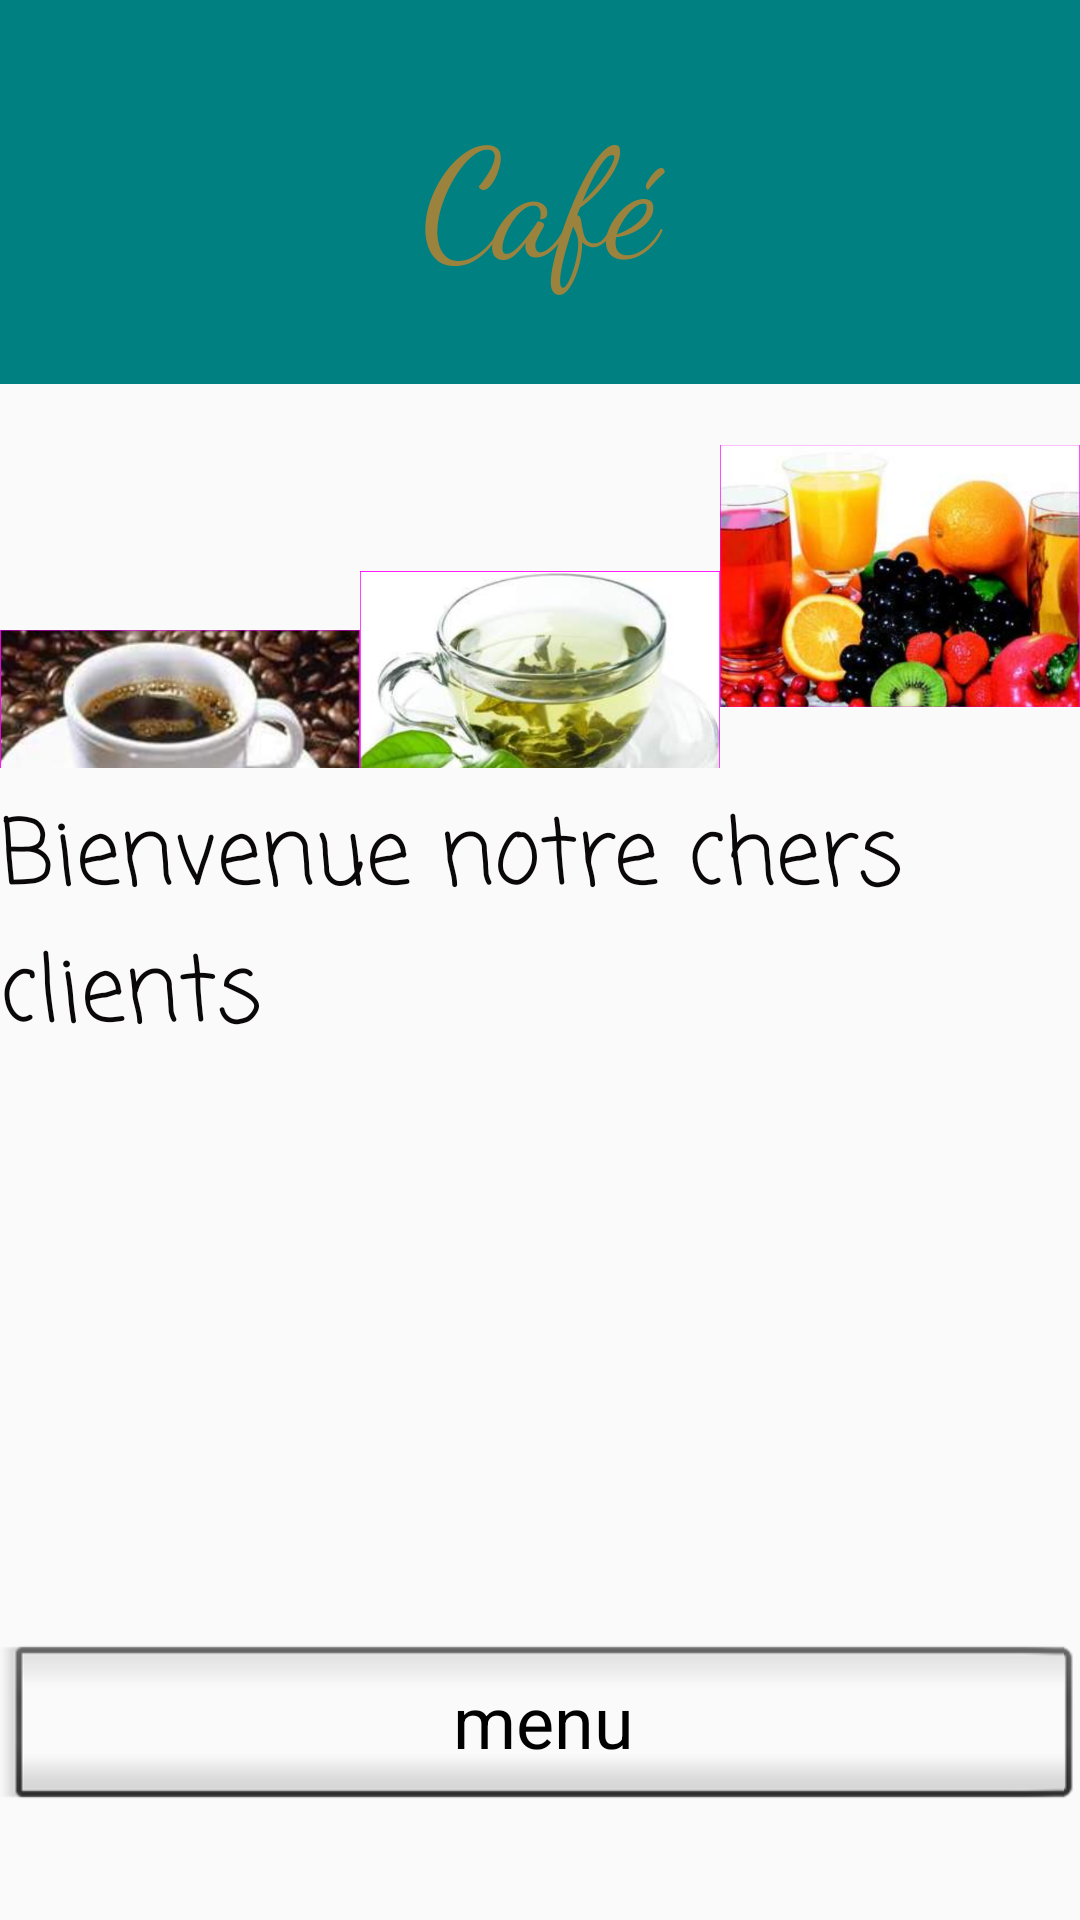

Icons on this 1080×1920 Android screen, each with its box as (x1, y1, x2, y2):
jus: (720, 445, 1080, 707)
